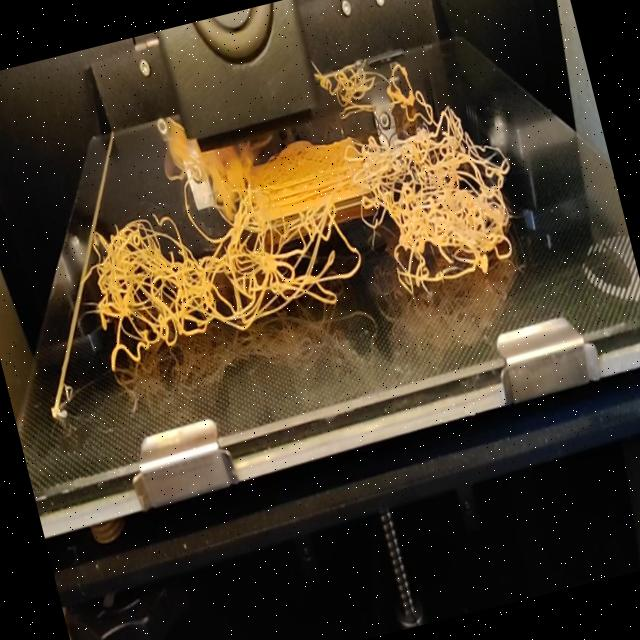spaghetti: (62, 101, 536, 378), (312, 31, 452, 140)
